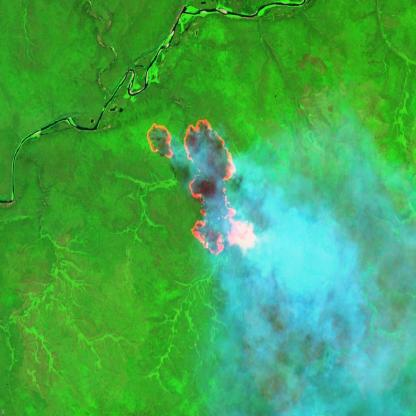fire: (181, 118, 258, 261), (144, 122, 174, 163)
